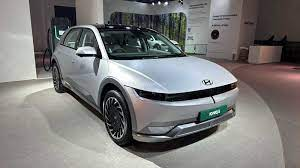Honda Ioniq: (48, 19, 240, 156)
